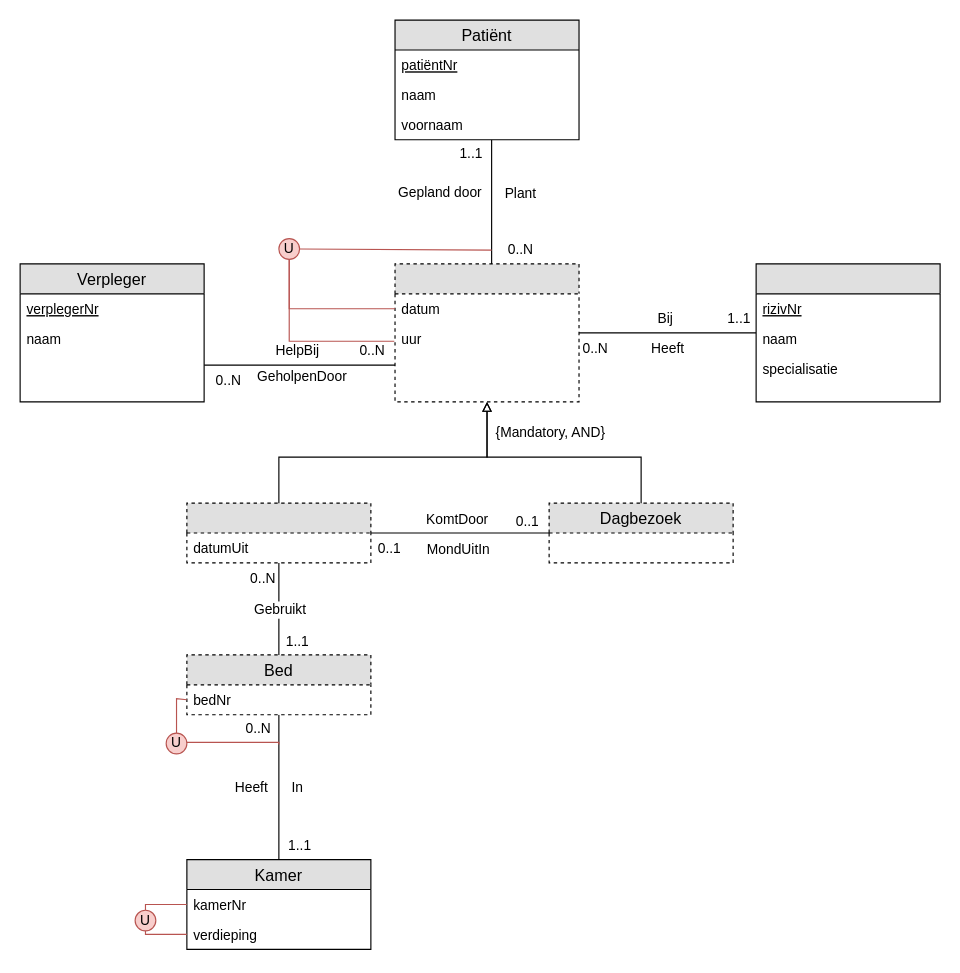
Image size: 960x973. Some labels were removed from this diagram. Each missing label, with the box of its shape:
Bezoek: (394, 263, 579, 402)
Dokter: (755, 263, 940, 402)
Opname: (186, 502, 371, 563)
